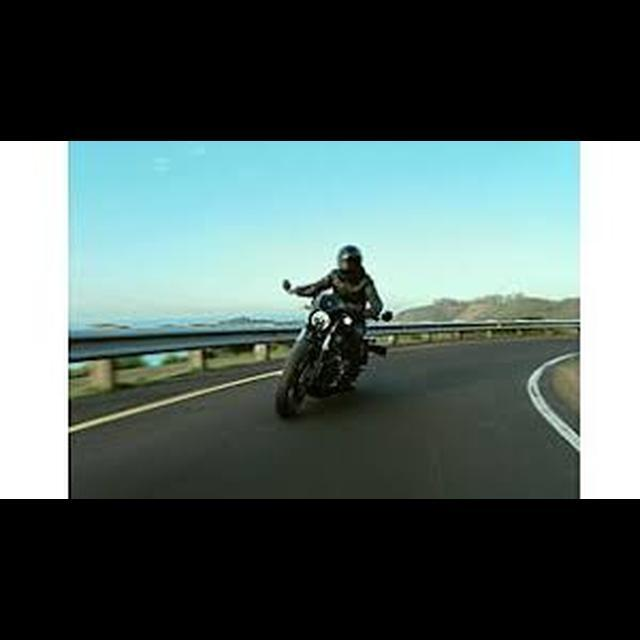motorcycle: (269, 277, 399, 428)
